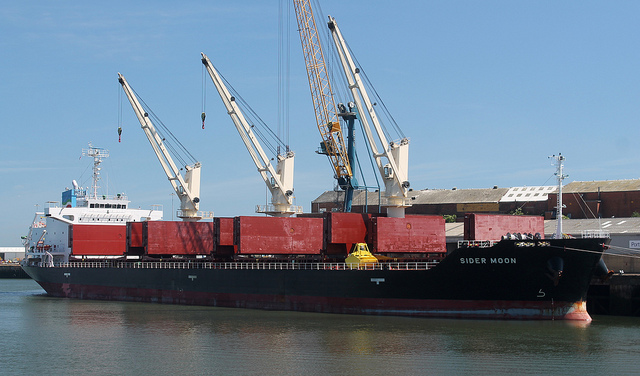bulk carrier: (30, 149, 606, 332)
